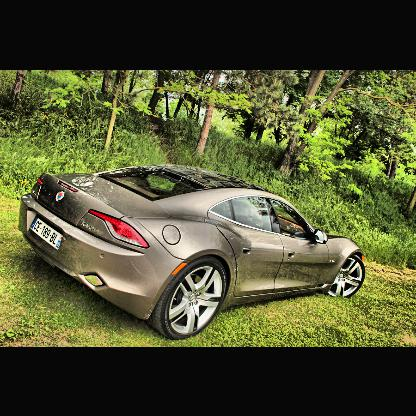Fisker Karma Sedan 2012: (19, 164, 367, 340)
